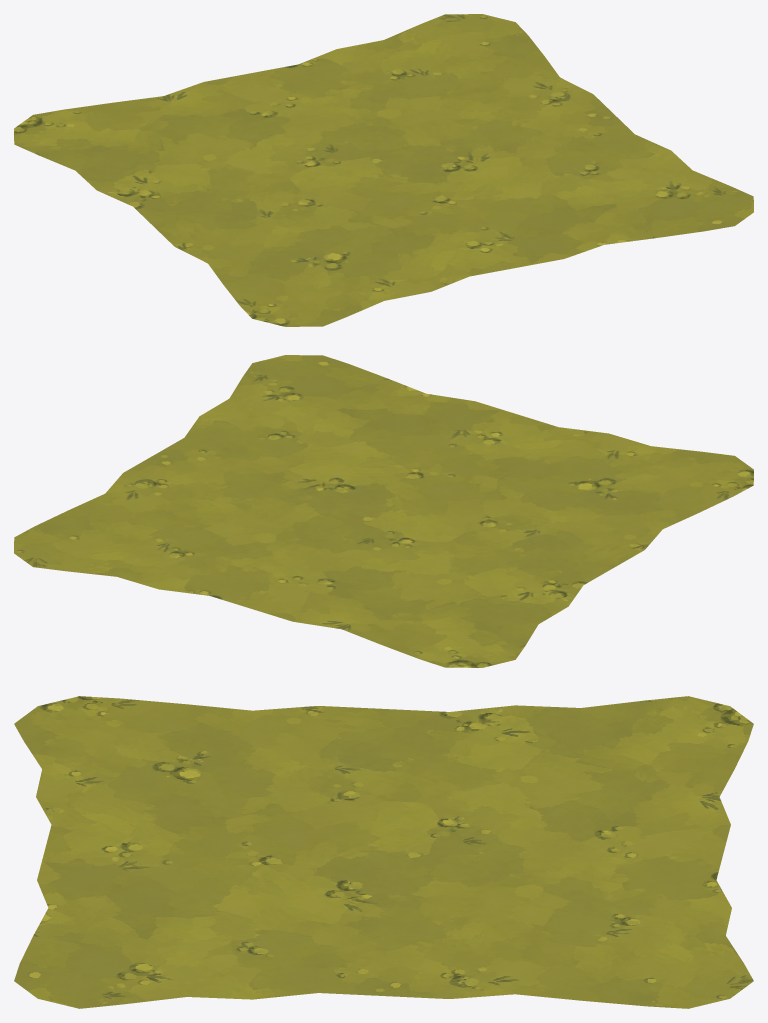
File: cliff_wall_top.glb
3 renders of one model, top to bottom at view 1: azimuth 30°, elevation 25°; view 2: azimuth 150°, elevation 25°; view 3: azimuth 270°, elevation 25°, orthographic. The views are drawn at different scales.
Visible parts, largest first — view 1: CliffWall_island_a_Top.001; view 2: CliffWall_island_a_Top.001; view 3: CliffWall_island_a_Top.001.
Boxes of the visible parts, x1,y1,x2,y2 form: CliffWall_island_a_Top.001: (14, 14, 753, 326); CliffWall_island_a_Top.001: (14, 355, 753, 667); CliffWall_island_a_Top.001: (14, 696, 753, 1008).
Bounding box in the file's own units: 0.9395 × 0 × 0.9395.
Materials: 1 (1 with a texture image).
